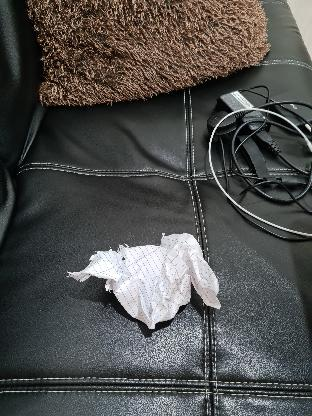Paper: (65, 235, 225, 328)
